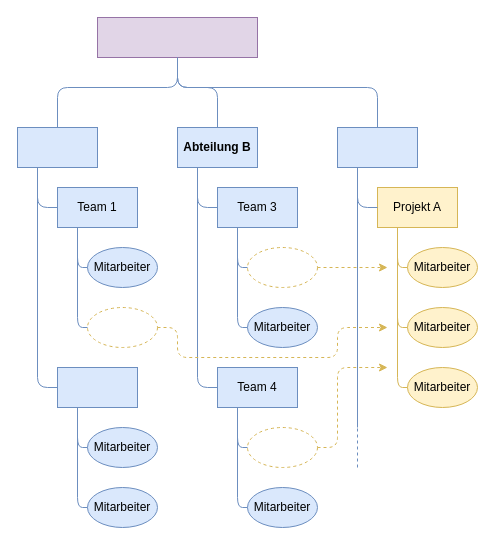
Some shapes in this 495 by 545 pixel diagram are drawn without their labels. The shapes that lost their labels are listed below. From the top down, each one's box as (x1, y1, x2, y2) in pixels, then its label:
(96, 16, 258, 58): Unternehmensleitung
(16, 126, 98, 168): Abteilung A
(336, 126, 418, 168): Projekt- abteilung
(56, 366, 138, 408): Team 2
